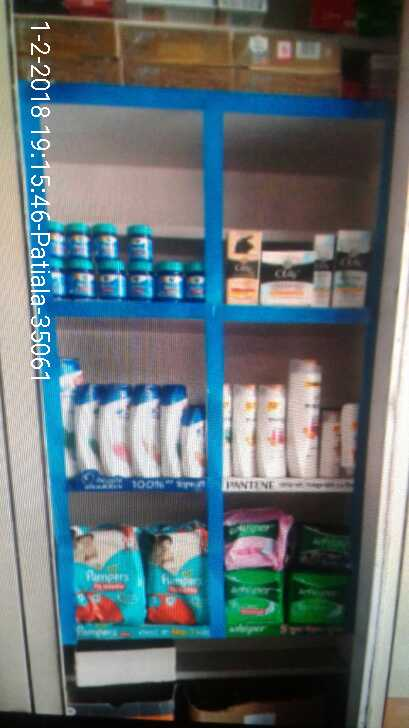vicks: (43, 214, 207, 310)
